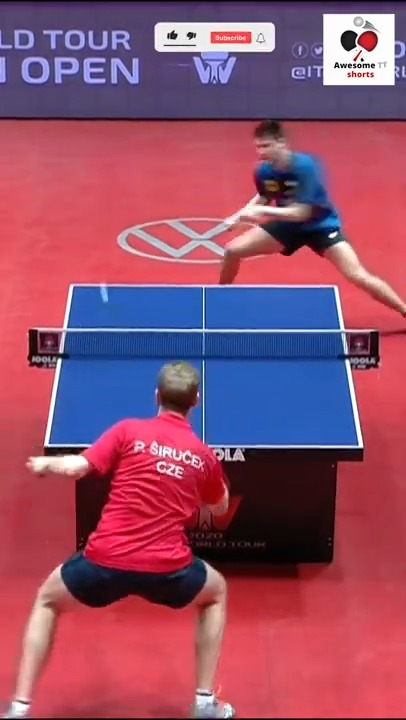Ball: (98, 280, 110, 301)
